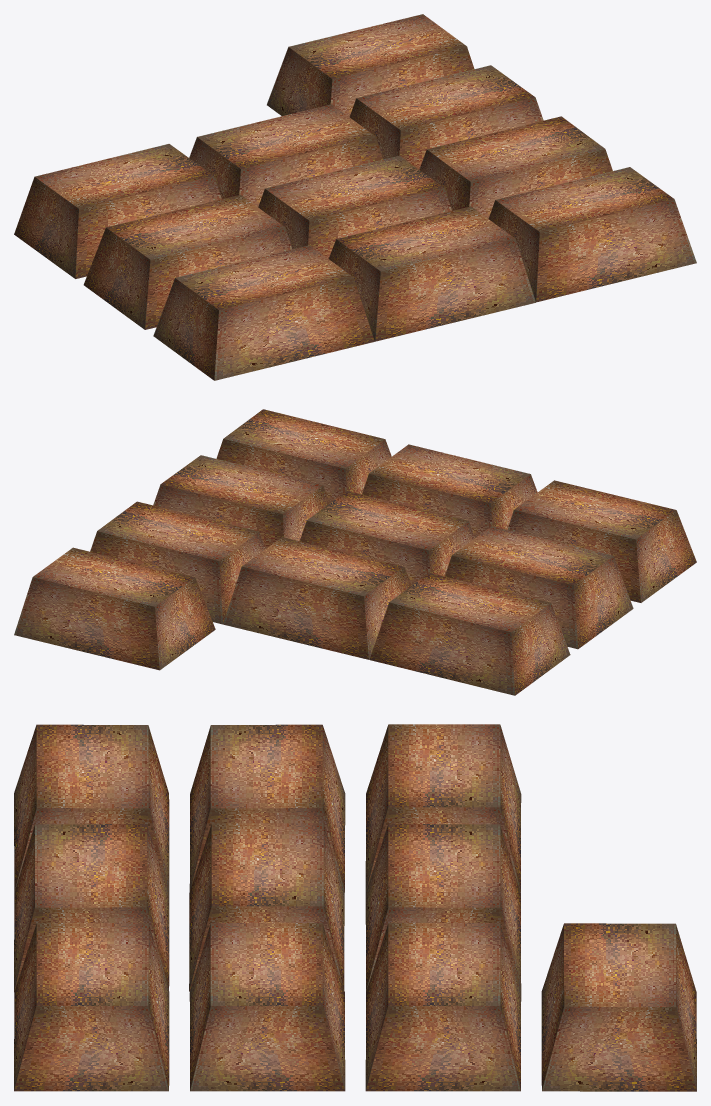
Rendered from iron_10.glb.
3 renders of one model, top to bottom at view 1: azimuth 30°, elevation 25°; view 2: azimuth 150°, elevation 25°; view 3: azimuth 270°, elevation 25°, orthographic. The views are drawn at different scales.
Parts seen in each view (by area): view 1: iron01.001; view 2: iron01.001; view 3: iron01.001.
Part boxes in pixels (x1,y1,x2,y2): iron01.001: (14,14,696,380); iron01.001: (14,409,696,695); iron01.001: (14,724,696,1091).
Size of the model in its own units: 189 by 22.94 by 183.
1 material, 1 textured.
